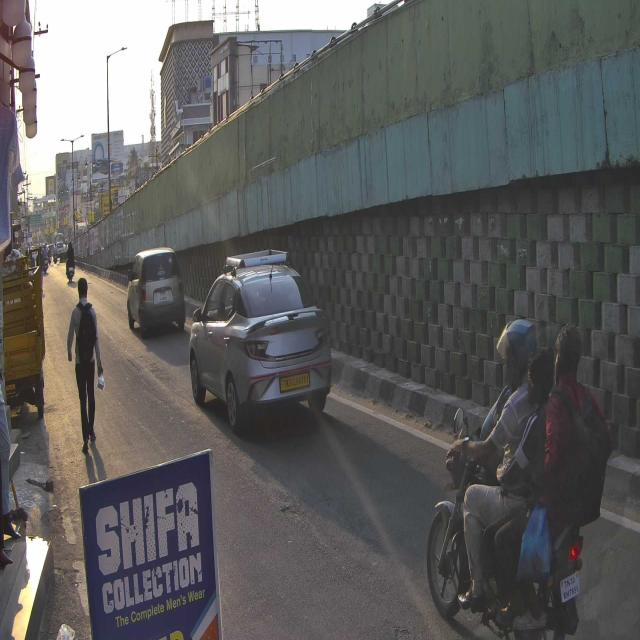triple_rider: (426, 319, 607, 640)
